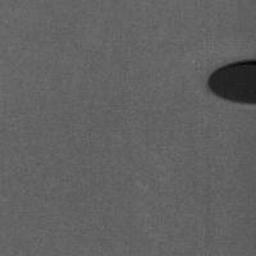Punching: (207, 60, 256, 104)
